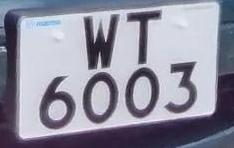0: (122, 63, 165, 124), (80, 68, 123, 129)
3: (161, 58, 203, 118)
6: (34, 69, 81, 134)
T: (120, 6, 171, 70)
W: (75, 7, 124, 74)
